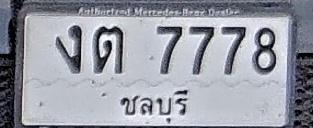7: (156, 25, 182, 74), (221, 26, 246, 75), (189, 26, 214, 74)
8: (253, 27, 276, 74)
A07: (55, 24, 82, 73)
A21: (91, 25, 124, 75)
CBI: (115, 85, 191, 124)
